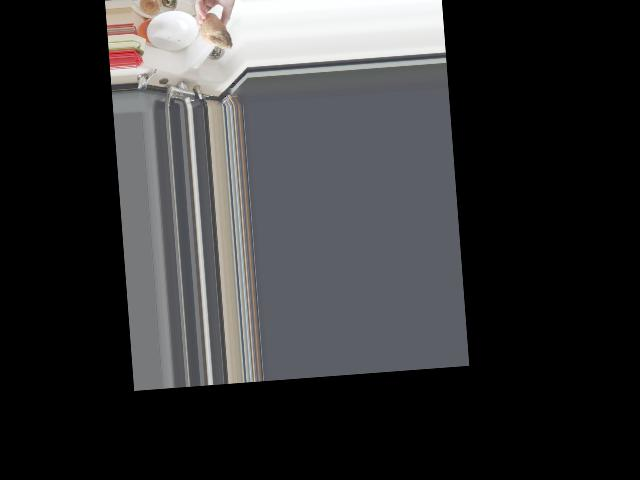sweet_potato: (198, 11, 235, 51)
